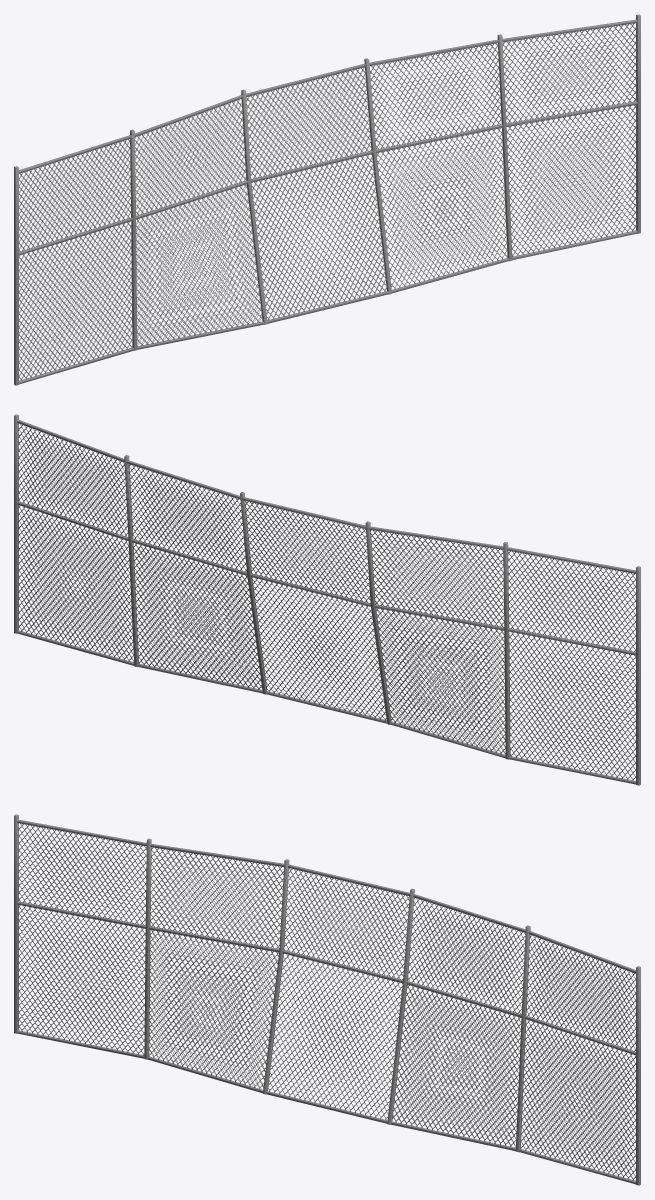
File: FenceMetal01_6.FBX
The picture shows the model from 3 angles, top to bottom: view 1: azimuth 30°, elevation 25°; view 2: azimuth 150°, elevation 25°; view 3: azimuth 330°, elevation 25°; orthographic projection.
Parts seen in each view (by area): view 1: FenceMetal01; view 2: FenceMetal01; view 3: FenceMetal01.
Boxes of the visible parts, <box> form: FenceMetal01: <box>14,14,640,385</box>; FenceMetal01: <box>14,414,640,785</box>; FenceMetal01: <box>14,814,640,1185</box>.
Bounding box in the file's own units: 246 × 81.94 × 16.97.
